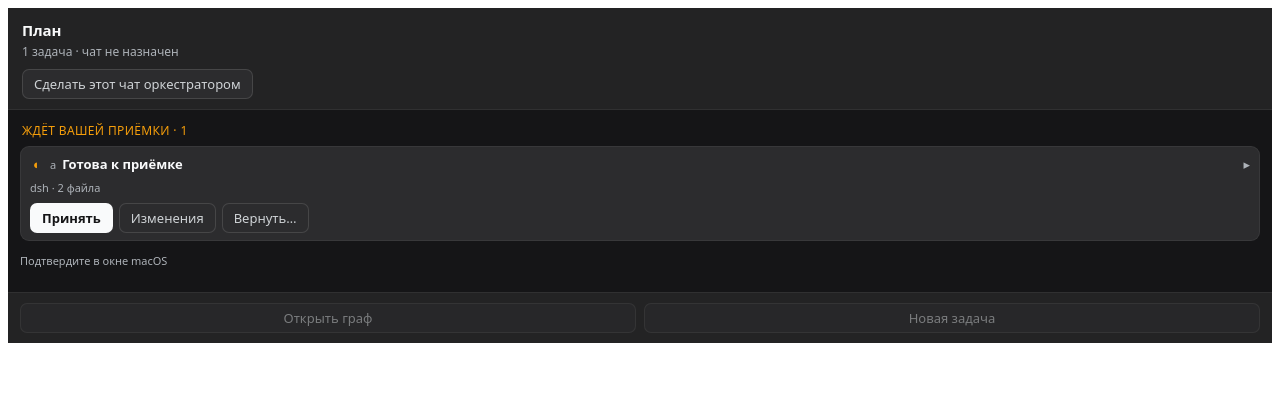
Test: «Принять» posts the same request as the review queue, and «declined» shows in the row
Click the button "Принять" at point(71, 218), box [30, 203, 113, 233]
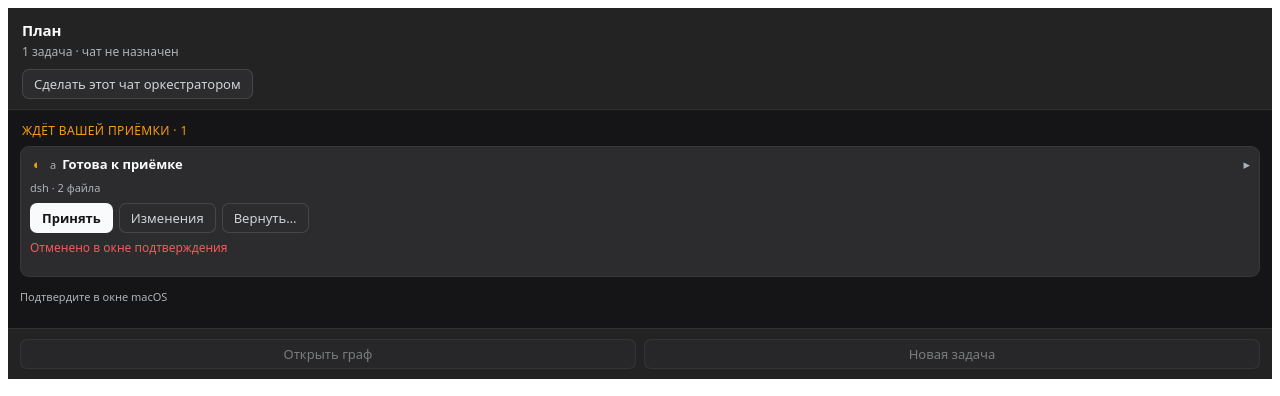
Now the text "Отменено в окне подтверждения" is shown, box [30, 239, 228, 256]
